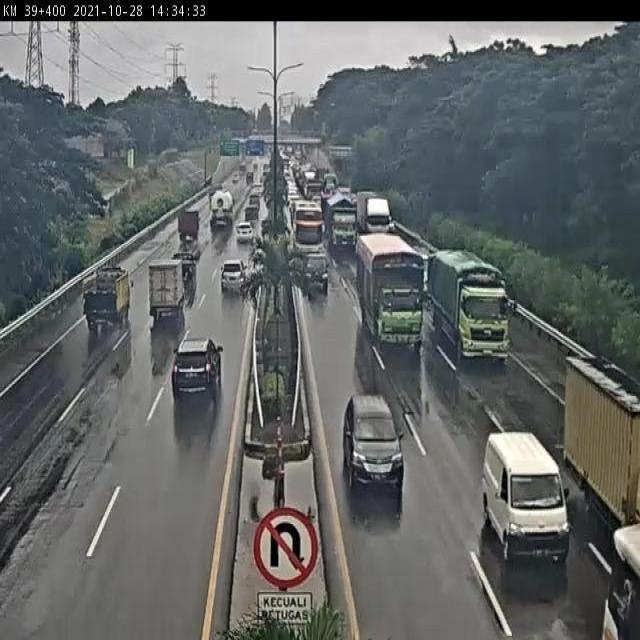big bus: (292, 201, 327, 263)
big truck: (429, 252, 516, 365), (355, 232, 428, 353), (324, 189, 359, 259), (359, 188, 396, 244)
car: (479, 435, 572, 564), (345, 393, 407, 499), (169, 341, 226, 400), (301, 252, 332, 288), (220, 260, 245, 296), (173, 255, 196, 293), (233, 223, 253, 249)
small truck: (567, 359, 640, 525), (82, 264, 137, 332), (148, 266, 183, 322), (175, 208, 202, 245)
